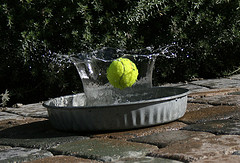tennis ball: (105, 57, 139, 89)
